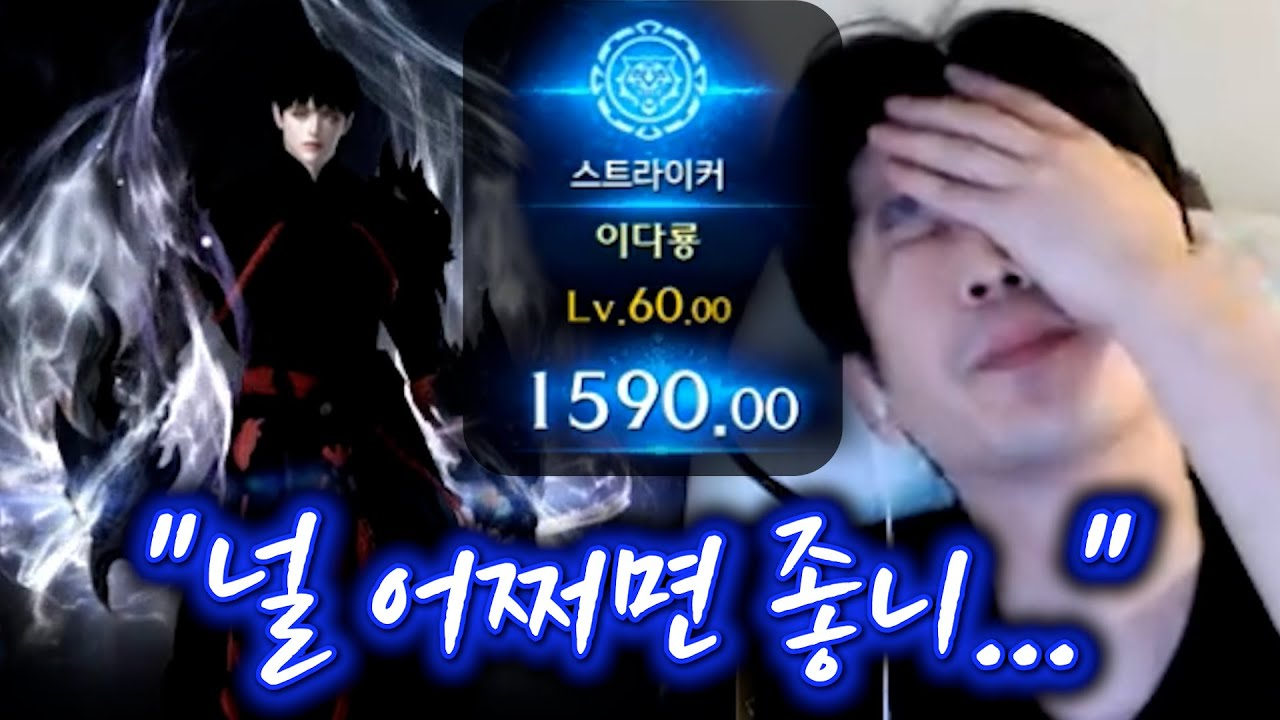널 어쩌면 좋니...: (206, 505, 1081, 701)
